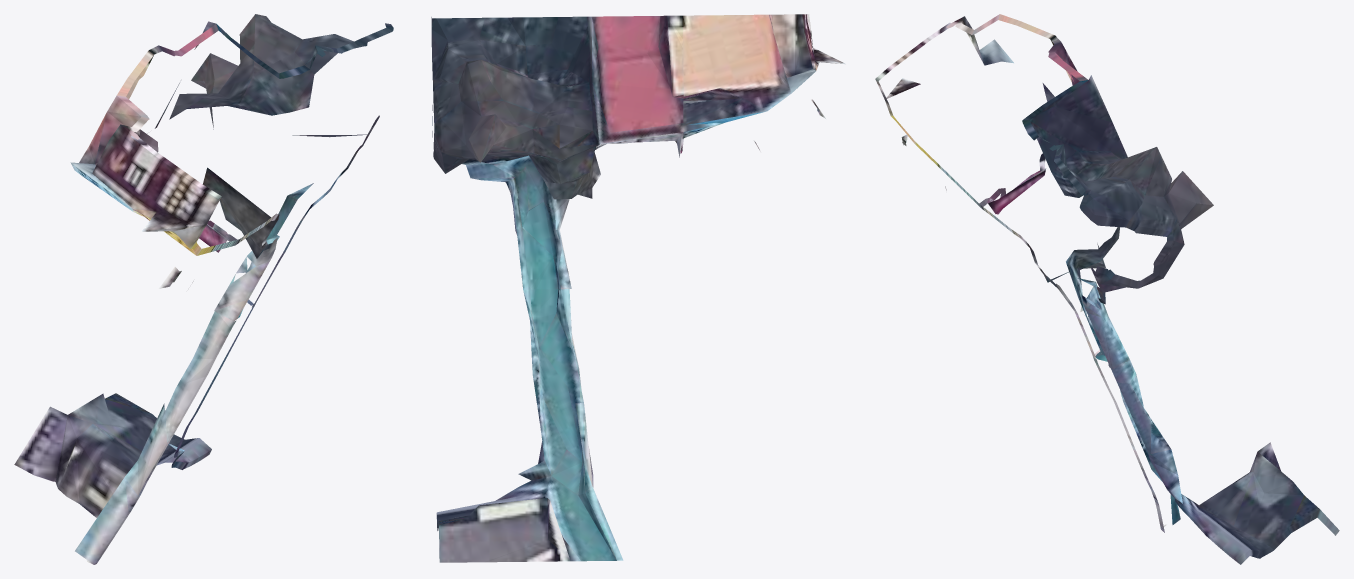
The picture shows the model from 3 angles, left to right: view 1: azimuth 30°, elevation 25°; view 2: azimuth 150°, elevation 25°; view 3: azimuth 270°, elevation 25°; orthographic projection. The views are drawn at different scales.
Size of the model in its own units: 27.47 by 39.2 by 33.46.
Materials: 1 (1 with a texture image).
